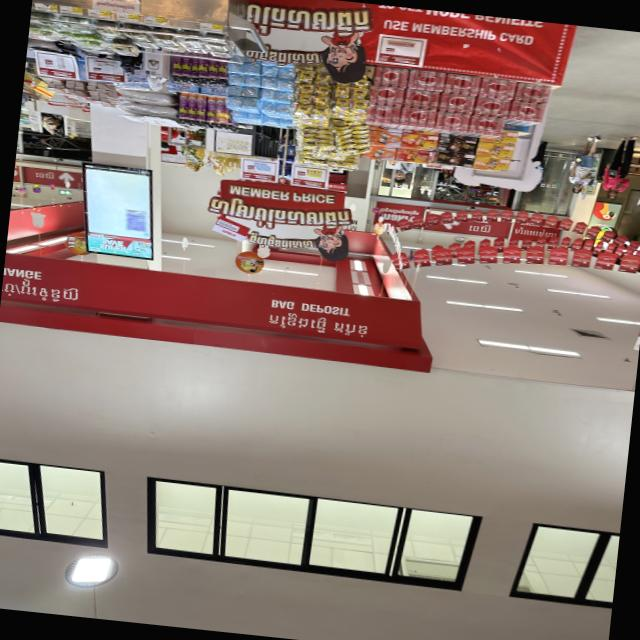1: (252, 309, 370, 338)
Yolov11_80vkh: (198, 189, 362, 238), (244, 230, 317, 256)
